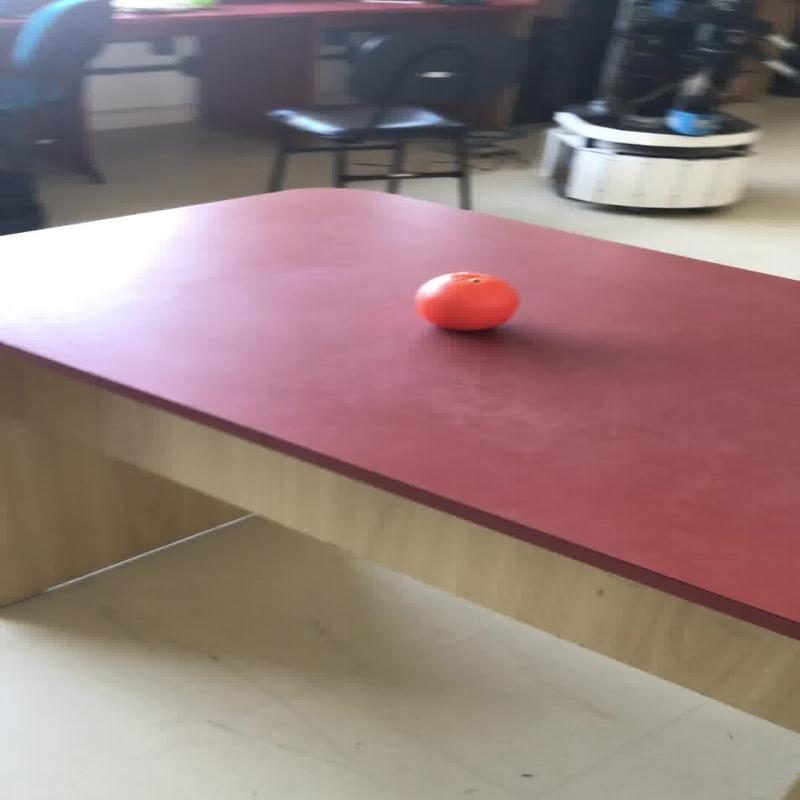orange: (412, 270, 518, 331)
